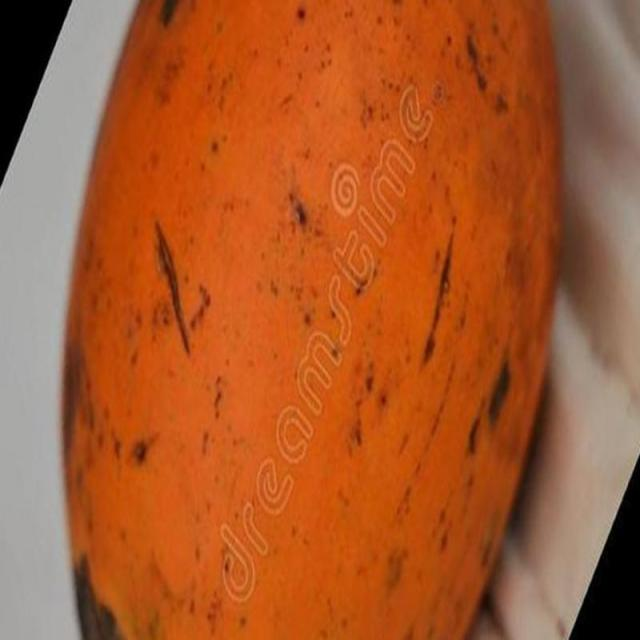good: (52, 0, 565, 639)
